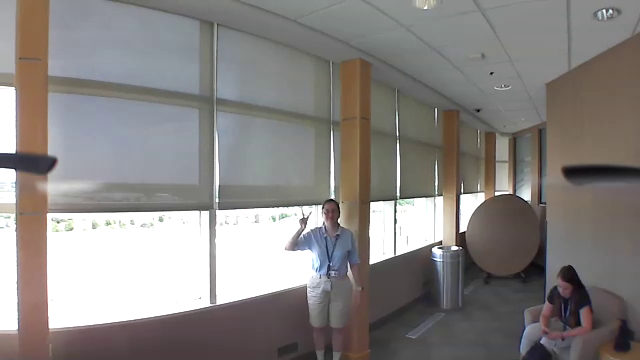peace: (291, 204, 312, 231)
